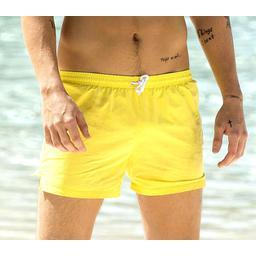short: (39, 69, 206, 199)
